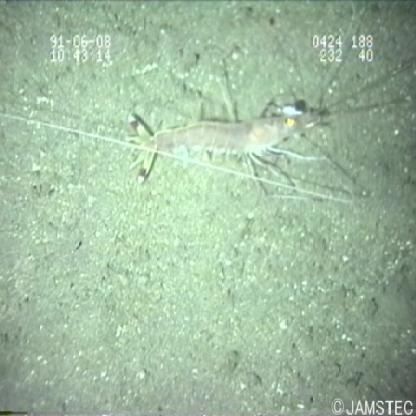Bio: (118, 30, 368, 206)
